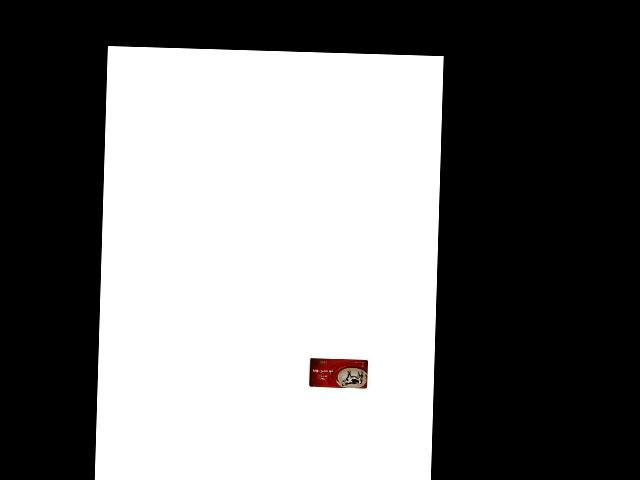chocolate: (307, 356, 367, 388)
